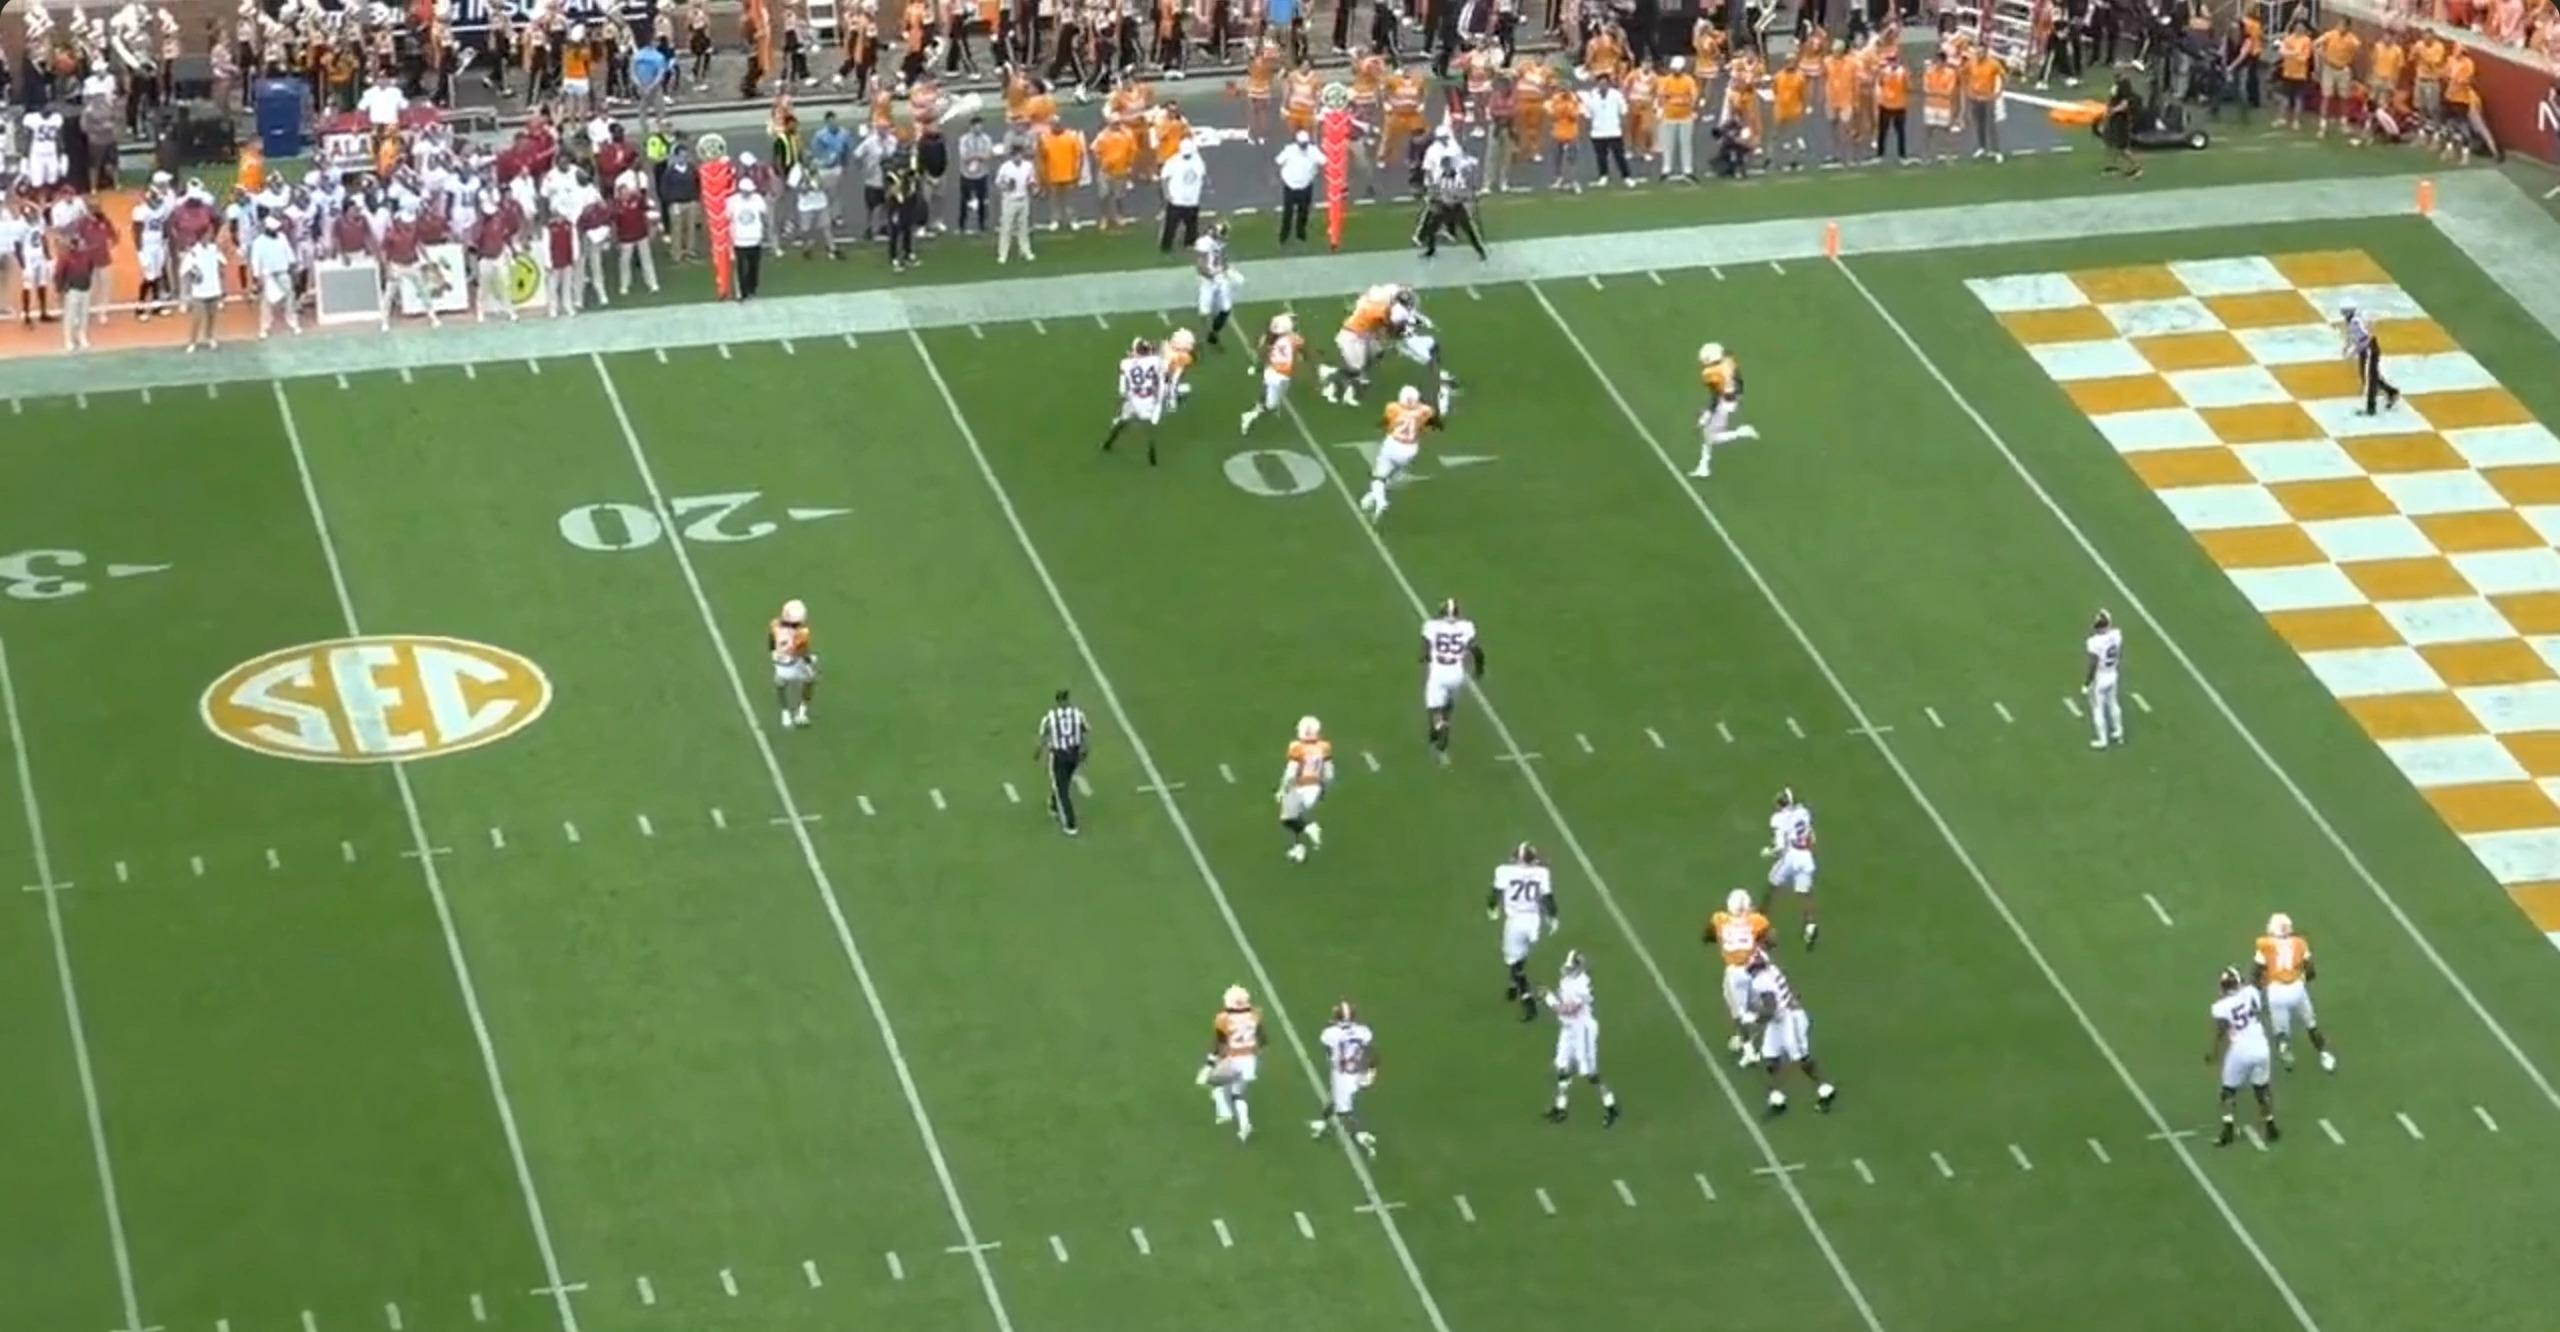defense: (2240, 909, 2333, 1082), (1195, 980, 1275, 1149), (1712, 889, 1788, 1065), (1363, 388, 1456, 525), (1273, 714, 1344, 873), (1310, 283, 1393, 410), (1246, 315, 1326, 443), (1695, 342, 1766, 484), (752, 594, 814, 735), (1151, 330, 1207, 427)
oline: (1529, 949, 1632, 1132), (1735, 958, 1839, 1126), (2194, 966, 2281, 1154), (1471, 845, 1556, 1019), (1407, 601, 1488, 767)
qb: (2069, 604, 2132, 753)
ref: (1033, 692, 1099, 853), (1414, 137, 1487, 261), (2347, 301, 2406, 427)
skill: (1299, 995, 1378, 1156), (1763, 784, 1835, 948), (1095, 340, 1178, 476), (1392, 291, 1473, 406), (1190, 218, 1248, 355)
